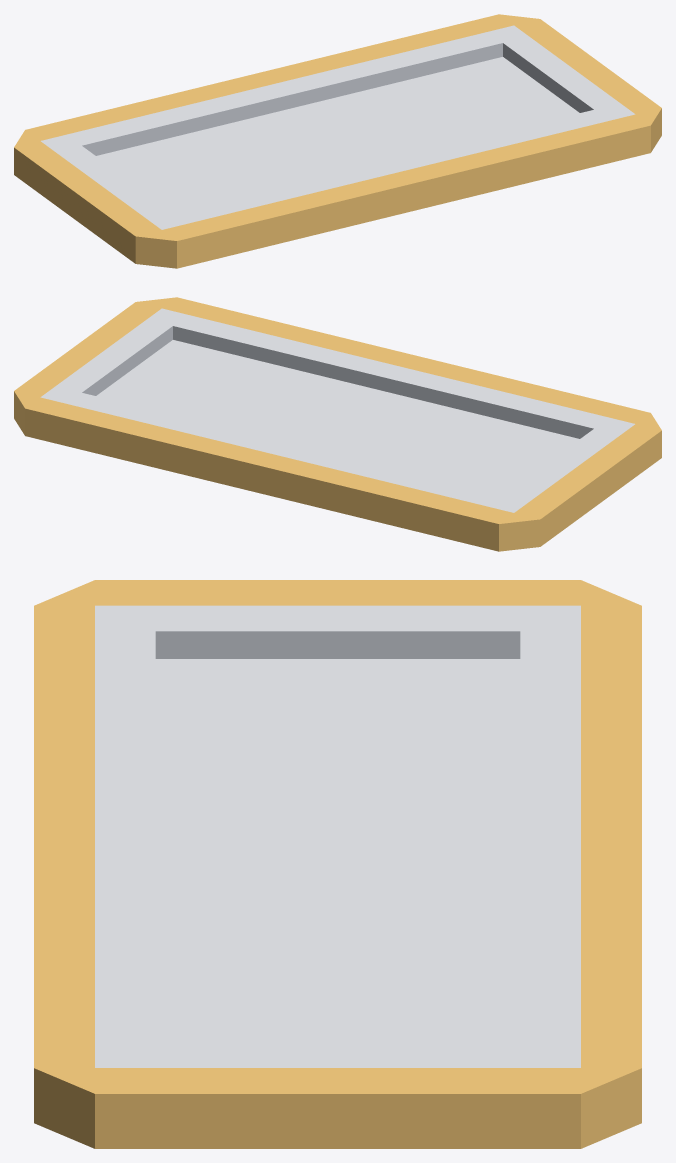
The model's file is platform_long.glb.
3 renders of one model, top to bottom at view 1: azimuth 30°, elevation 25°; view 2: azimuth 150°, elevation 25°; view 3: azimuth 270°, elevation 25°, orthographic. The views are drawn at different scales.
Visible parts, largest first — view 1: platform_long; view 2: platform_long; view 3: platform_long.
Boxes of the visible parts, <box> form: platform_long: <box>14,14,661,268</box>; platform_long: <box>14,297,661,551</box>; platform_long: <box>34,580,641,1148</box>.
Size of the model in its own units: 2.81 by 0.1404 by 1.4.
